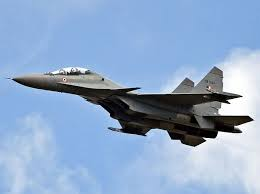maybay_muctieu: (10, 56, 242, 143)
